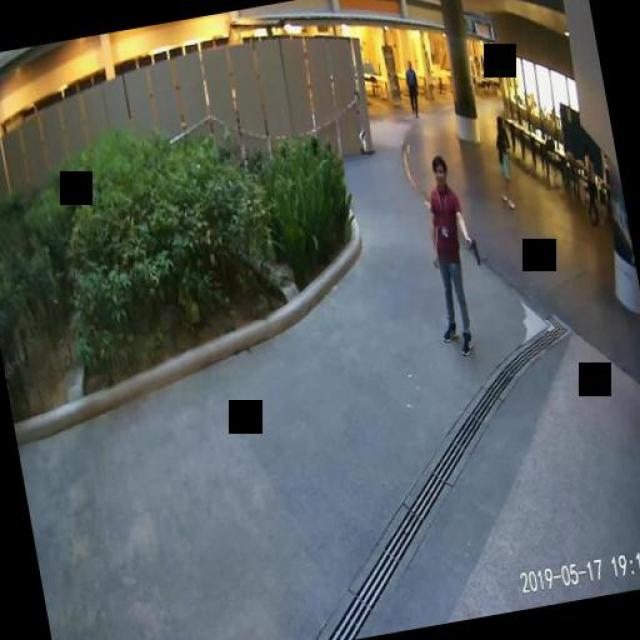gun: (465, 238, 480, 268)
